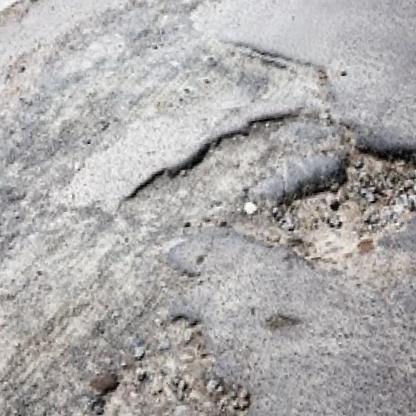pothole: (103, 107, 318, 253), (243, 131, 416, 286), (86, 308, 254, 416)
